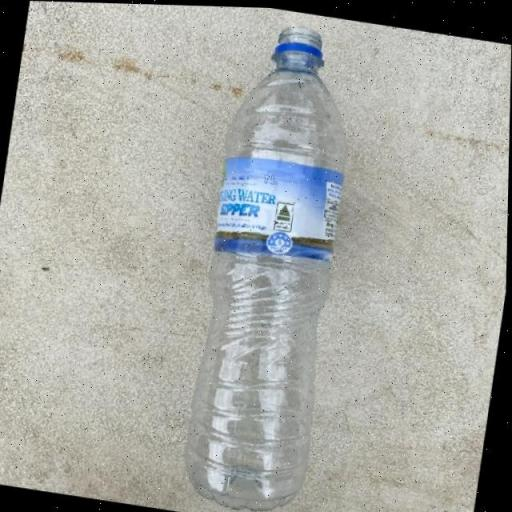plastic: (174, 13, 370, 512)
